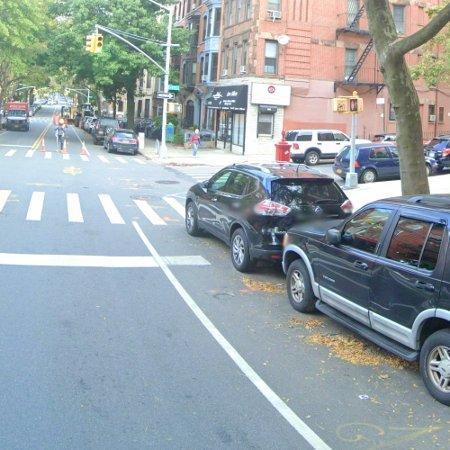crosswalks: (0, 185, 187, 226)
